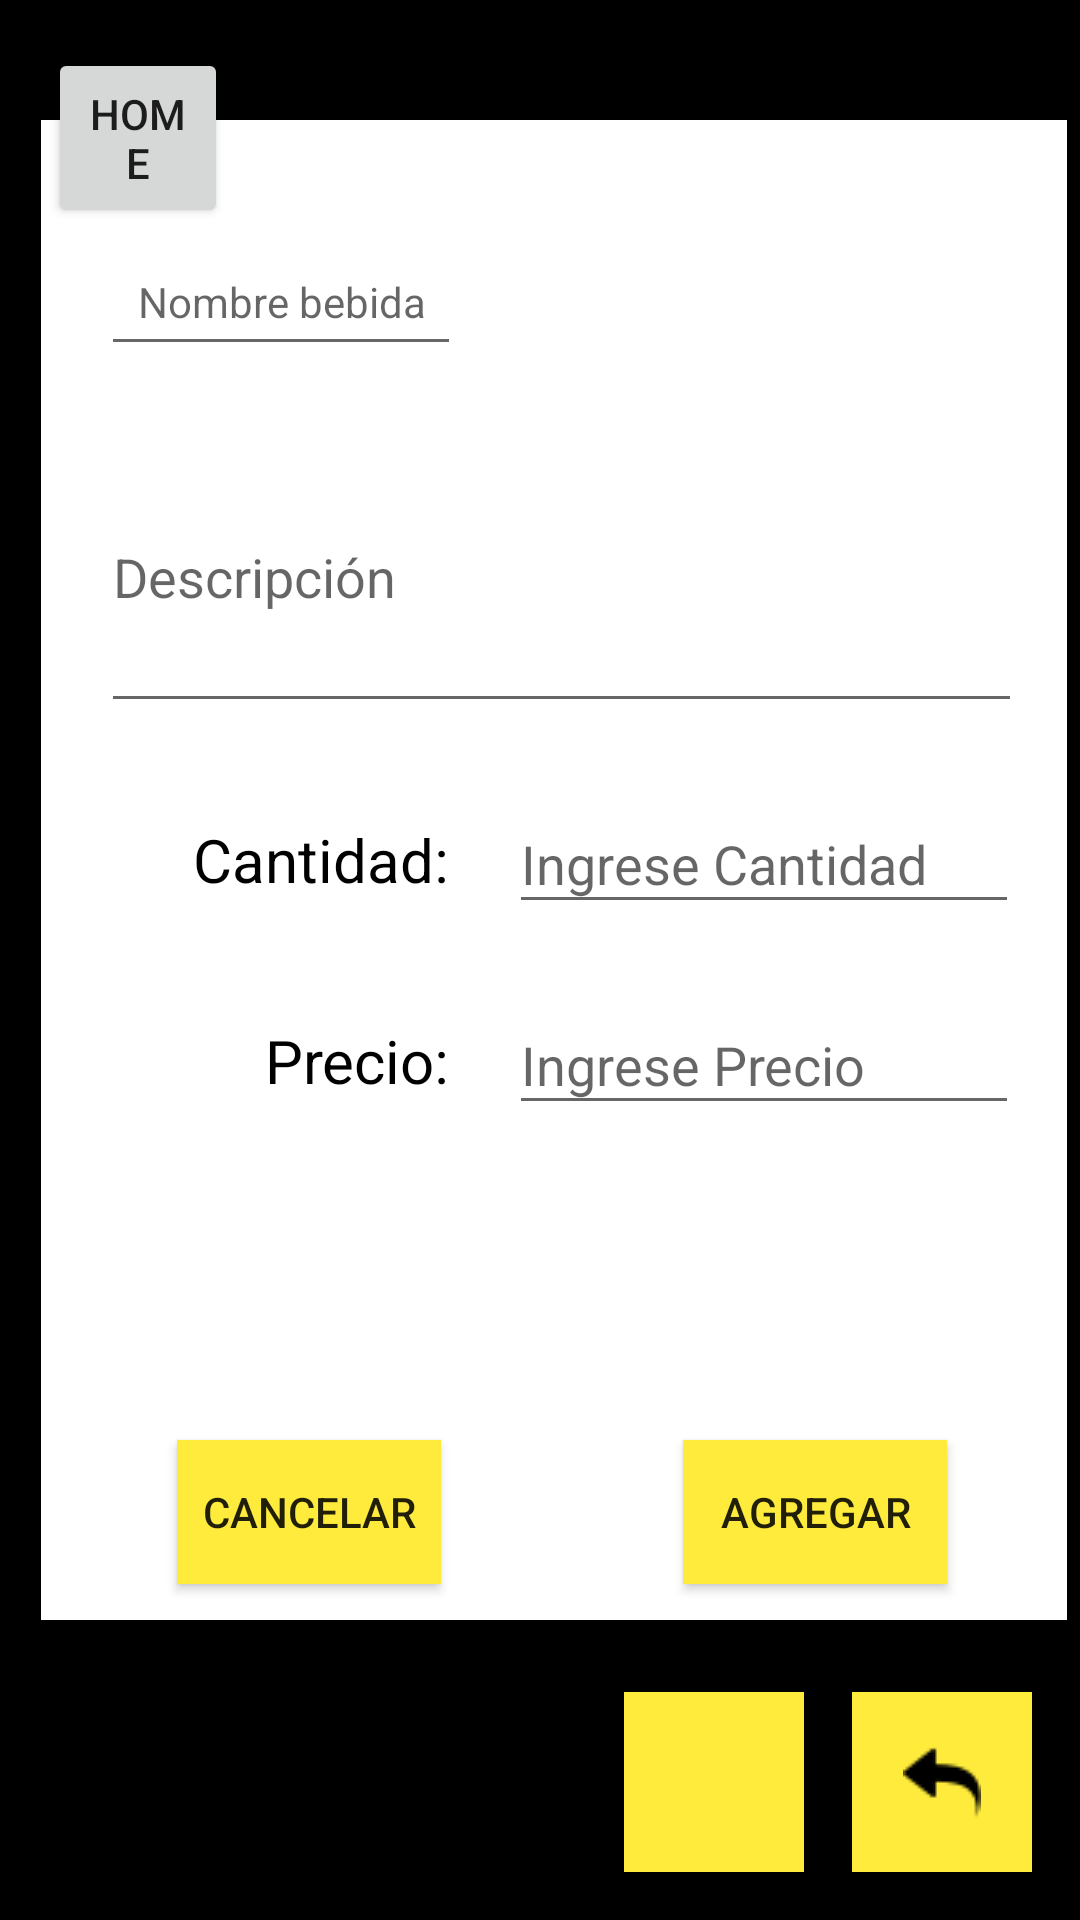

Icons on this 1080×1920 Android screen, each with its box as (left=x1, top=y1, right=x2, bottom=y2):
regresar: (left=852, top=1692, right=1032, bottom=1872)
